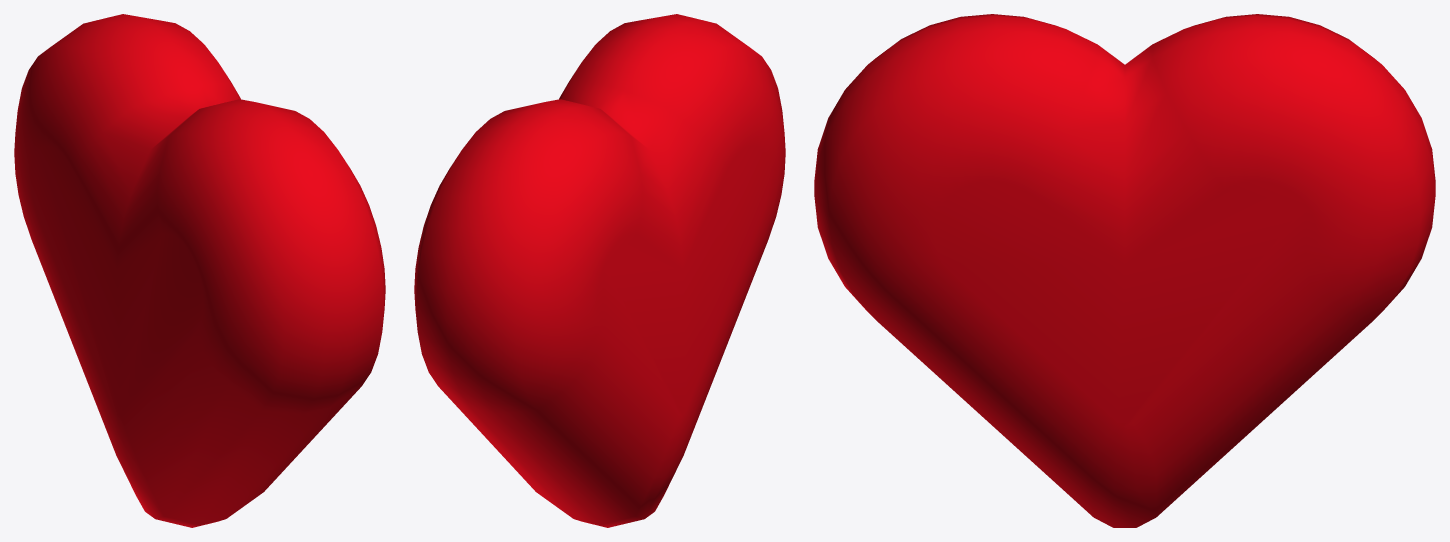
The model's file is heart.fbx.
3 renders of one model, left to right at view 1: azimuth 30°, elevation 25°; view 2: azimuth 150°, elevation 25°; view 3: azimuth 270°, elevation 25°, orthographic. The views are drawn at different scales.
Visible parts, largest first — view 1: Cube; view 2: Cube; view 3: Cube.
Boxes of the visible parts, left/top/right/bottom form: Cube: left=14, top=14, right=385, bottom=527; Cube: left=414, top=14, right=785, bottom=527; Cube: left=814, top=14, right=1435, bottom=527.
Size of the model in its own units: 113 by 293 by 331.
